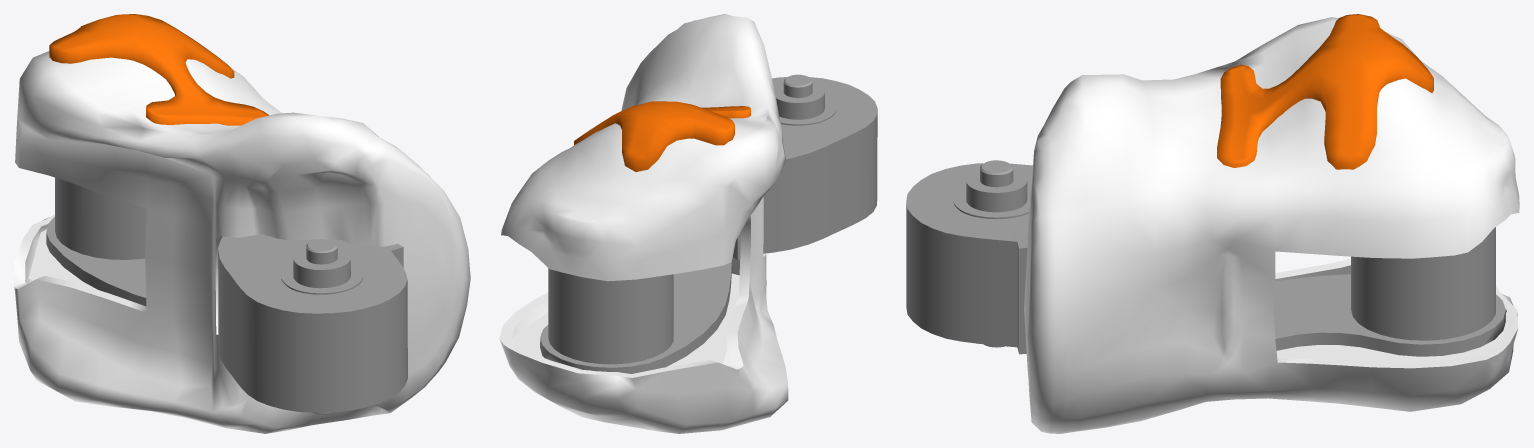
The model's file is LKneePitch.obj.
The picture shows the model from 3 angles, left to right: view 1: azimuth 30°, elevation 25°; view 2: azimuth 150°, elevation 25°; view 3: azimuth 270°, elevation 25°; orthographic projection. The views are drawn at different scales.
Parts seen in each view (by area): view 1: LKneePitch_Mesh.011; view 2: LKneePitch_Mesh.011; view 3: LKneePitch_Mesh.011.
Part boxes in pixels (x1,y1,x2,y2): LKneePitch_Mesh.011: (14,14,470,433); LKneePitch_Mesh.011: (499,14,877,433); LKneePitch_Mesh.011: (906,14,1519,433).
Size of the model in its own units: 89.68 by 93.29 by 148.
